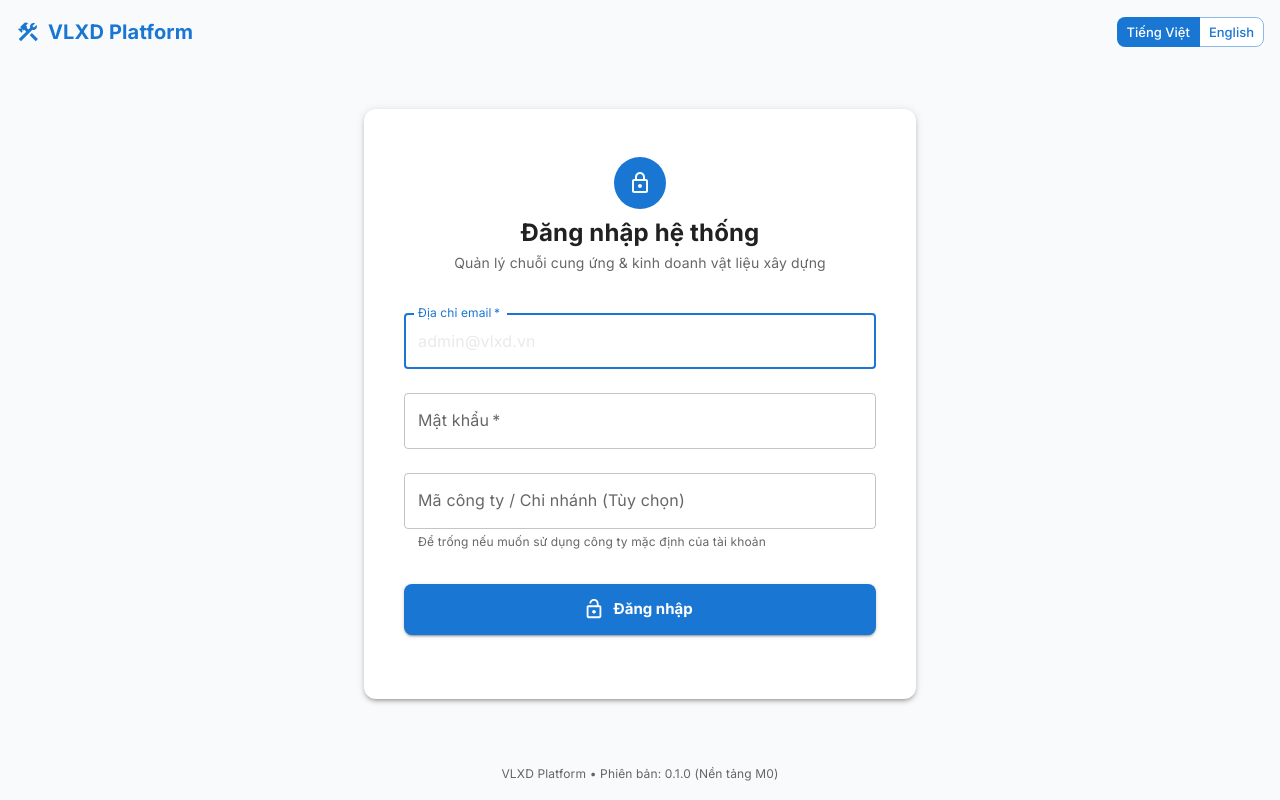
it: <LoginPage /> › switches interface language when clicking English toggle
The width and height of the screenshot is (1280, 800).
Click the button "English" at (1231, 32), box [1199,17,1264,47]
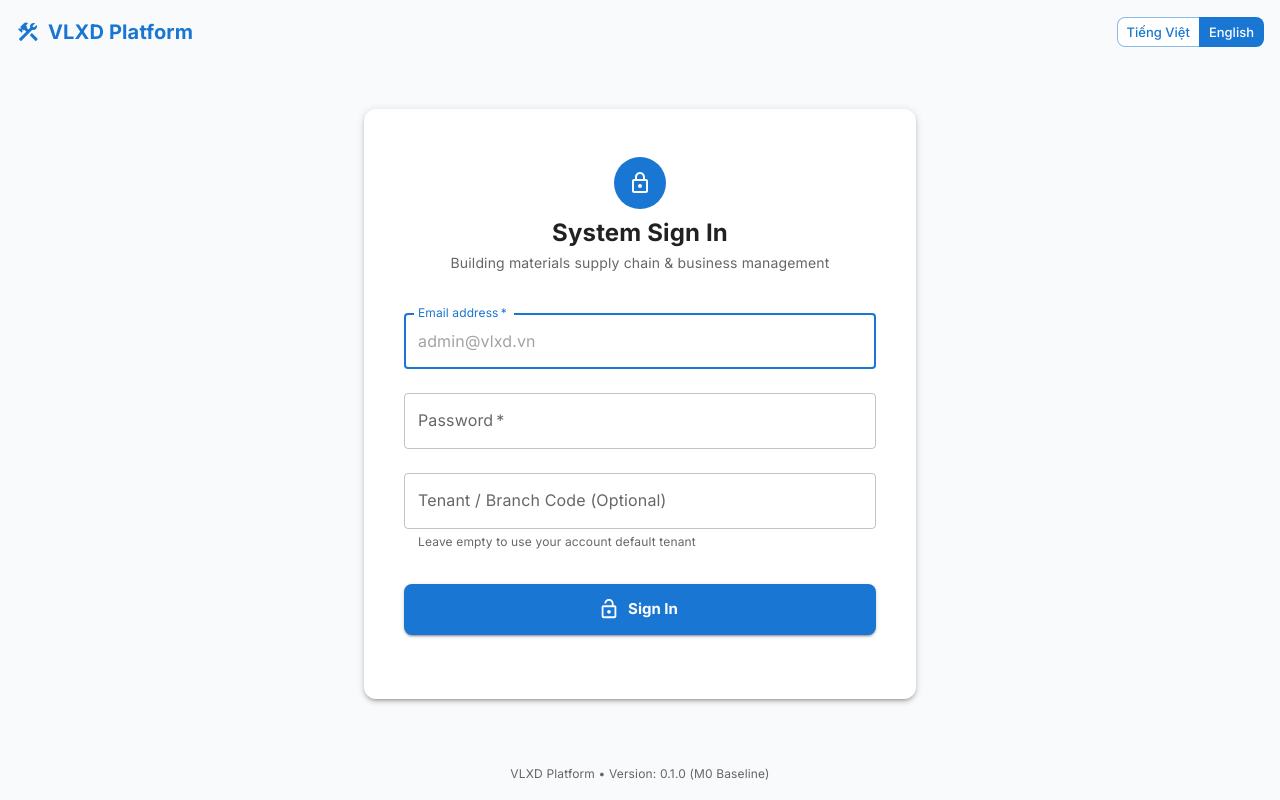
Result: the heading "System Sign In" is shown at [552,217,728,249]
Result: the text "Building materials supply chain & business management" is shown at [451,253,830,273]
Result: the button "Sign In" is shown at [404,584,876,635]
